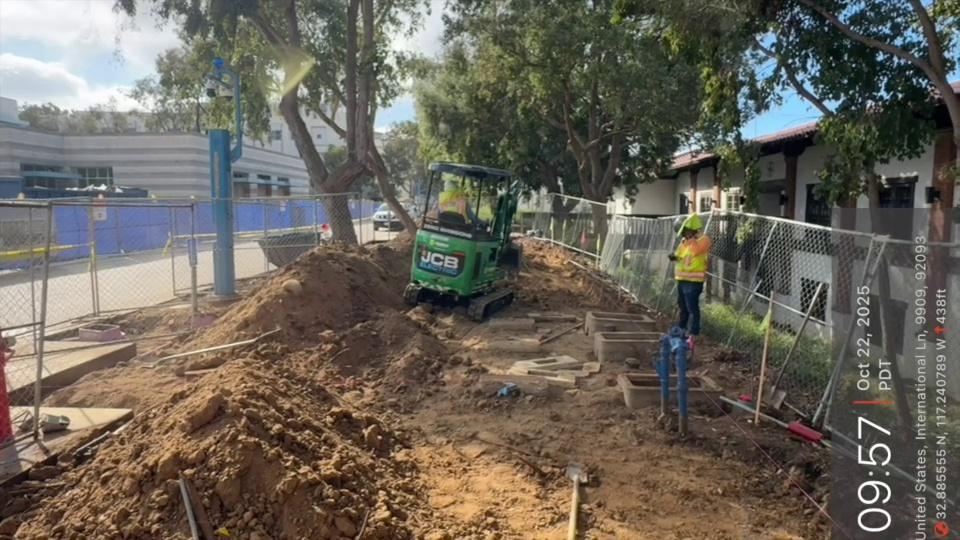Exacavator: (401, 159, 524, 323)
